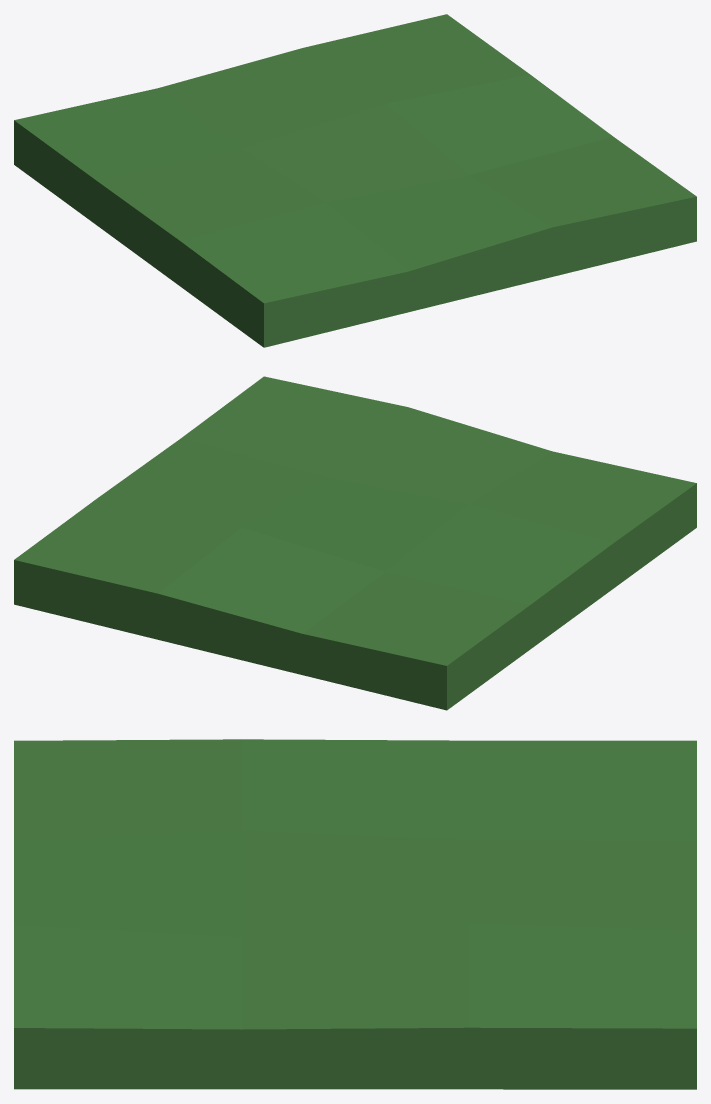
The model's file is Grass3x3.fbx.
The picture shows the model from 3 angles, top to bottom: view 1: azimuth 30°, elevation 25°; view 2: azimuth 150°, elevation 25°; view 3: azimuth 270°, elevation 25°; orthographic projection. The views are drawn at different scales.
Parts seen in each view (by area): view 1: Cube; view 2: Cube; view 3: Cube.
Part boxes in pixels (x1=…): Cube: x1=14, y1=14, x2=696, y2=347; Cube: x1=14, y1=376, x2=696, y2=710; Cube: x1=14, y1=739, x2=696, y2=1089.
Bounding box in the file's own units: 200 × 22.75 × 200.
